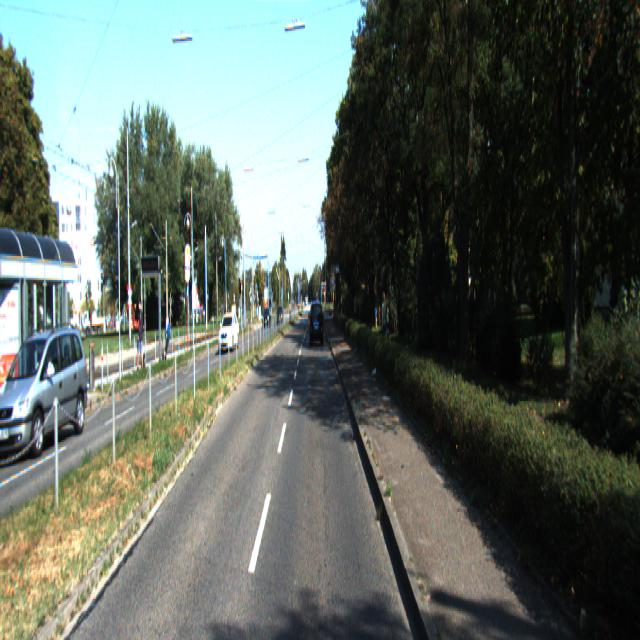Car: (0, 322, 91, 456), (219, 312, 239, 353), (310, 302, 324, 348)
